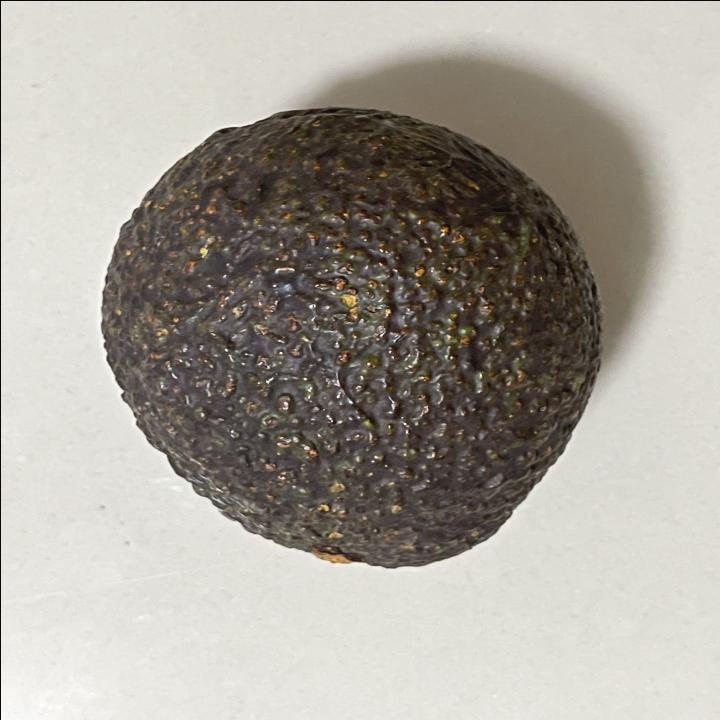Level1: (85, 88, 618, 586)
